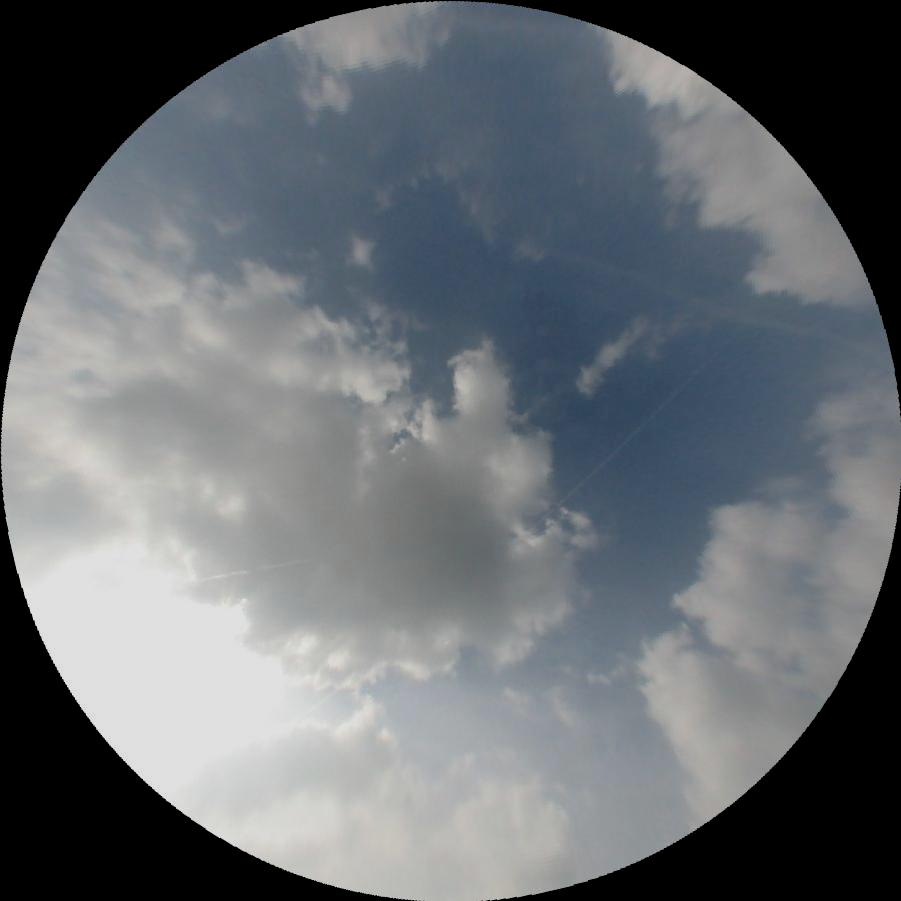contrail young: (532, 324, 743, 529)
parasite: (193, 556, 313, 583)
sun: (0, 479, 312, 819)
